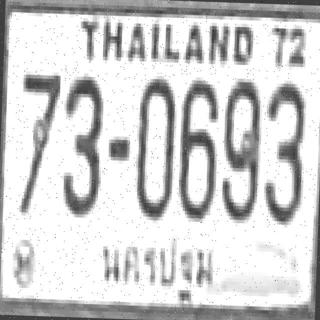N00: (133, 75, 174, 217)
N03: (58, 72, 102, 215), (260, 79, 304, 222)
N06: (176, 76, 217, 218)
N07: (16, 68, 58, 213)
N09: (219, 74, 261, 220)
